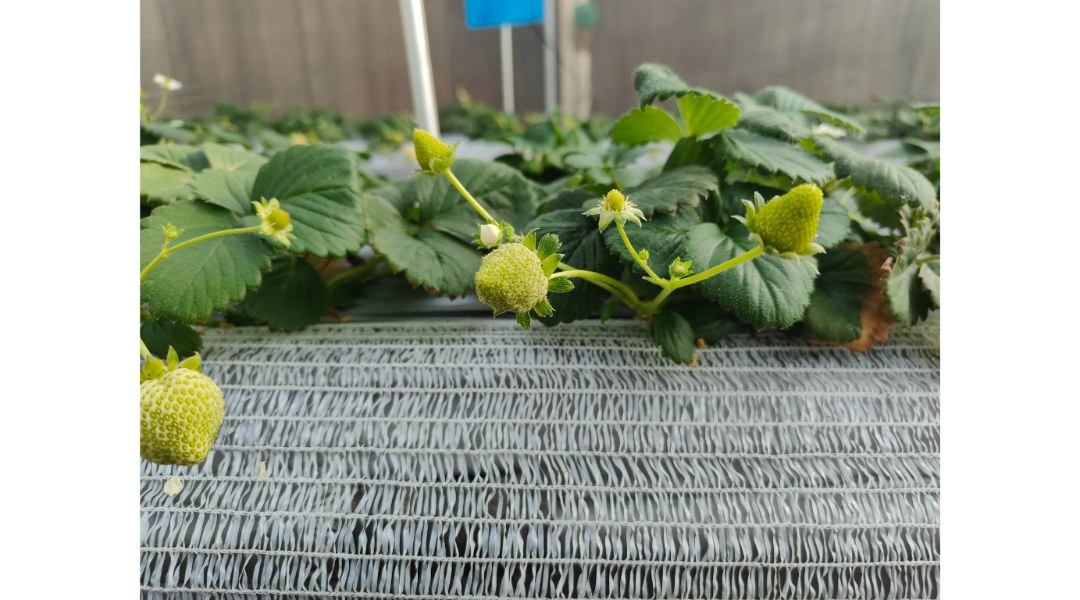berry: (460, 233, 571, 328), (138, 345, 224, 467), (741, 173, 832, 270), (572, 187, 646, 244), (236, 195, 301, 248), (403, 118, 461, 177), (477, 221, 505, 246)
strain: (441, 173, 505, 244), (678, 241, 769, 286), (179, 221, 250, 258), (619, 223, 651, 284), (135, 251, 163, 290)
